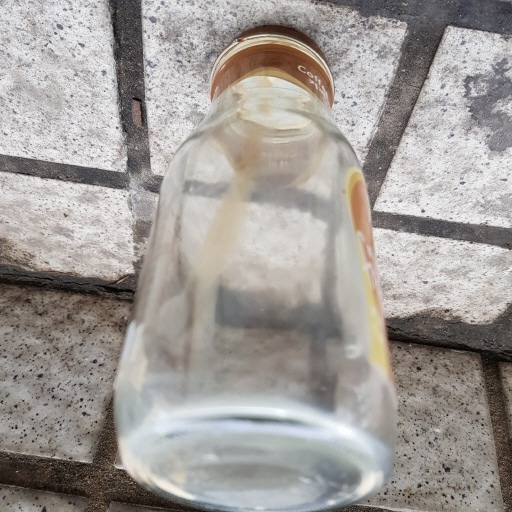Glass_4: (107, 26, 401, 510)
